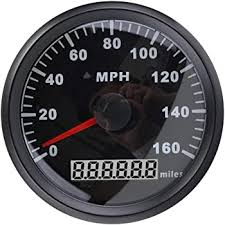Digital_Meter: (69, 161, 159, 182)
